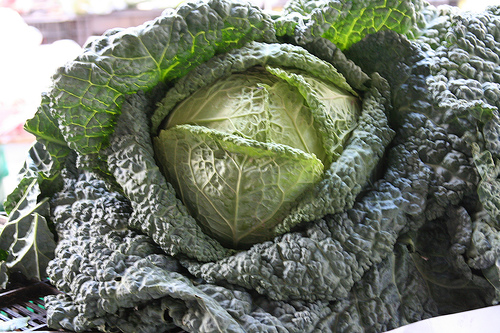cabbage: (163, 49, 358, 241)
